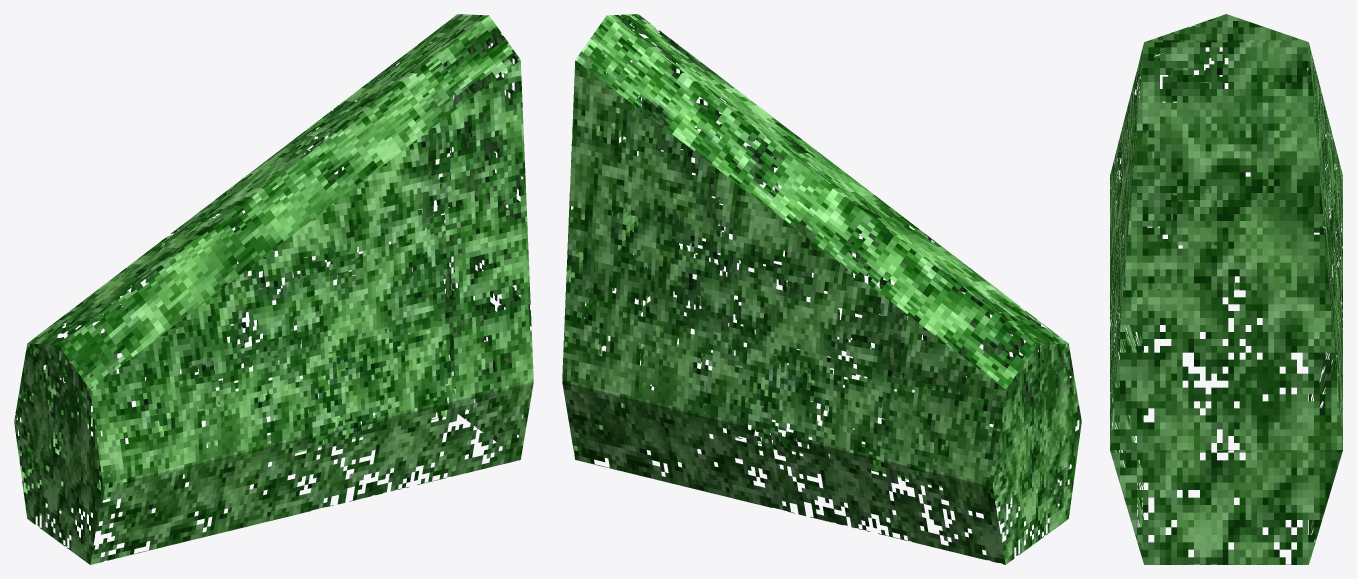
The model's file is bush_connector_straight_spring.glb.
3 views of the same model, side by side, from view 1: azimuth 30°, elevation 25°; view 2: azimuth 150°, elevation 25°; view 3: azimuth 270°, elevation 25° (orthographic). The views are drawn at different scales.
Visible parts, largest first — view 1: bush_connector_straight_spring; view 2: bush_connector_straight_spring; view 3: bush_connector_straight_spring.
Part boxes in pixels (x1=…): bush_connector_straight_spring: x1=14, y1=14, x2=533, y2=564; bush_connector_straight_spring: x1=562, y1=14, x2=1081, y2=564; bush_connector_straight_spring: x1=1110, y1=14, x2=1342, y2=564.
Bounding box in the file's own units: 2.01 × 1.88 × 0.7191.
Materials: 1 (1 with a texture image).
